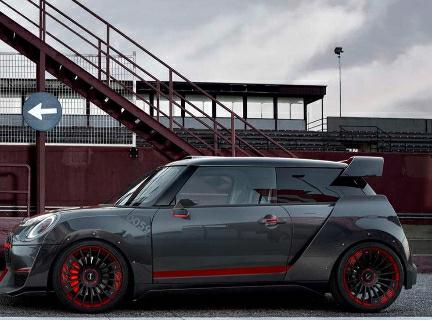MINI-JCW: (7, 163, 425, 311)
